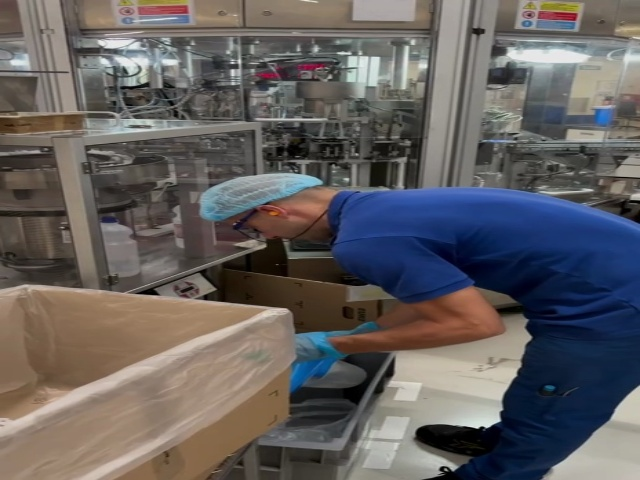Earplug: (257, 207, 290, 218)
Hairnet: (198, 170, 319, 222)
No_Helmet: (199, 172, 323, 224)
No_Vest: (343, 192, 640, 306)
Person: (199, 172, 640, 480)
Safety_Goggles: (224, 199, 269, 238)
